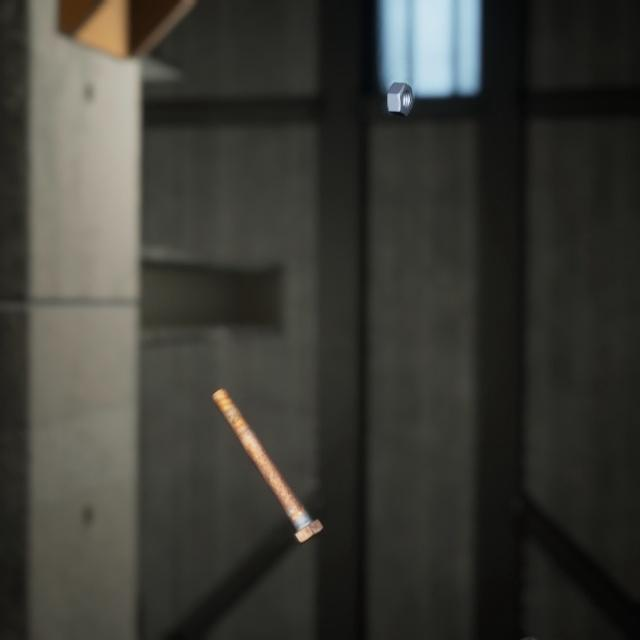bolt: (207, 362, 328, 527), (509, 607, 544, 640)
nut: (382, 66, 417, 110)
